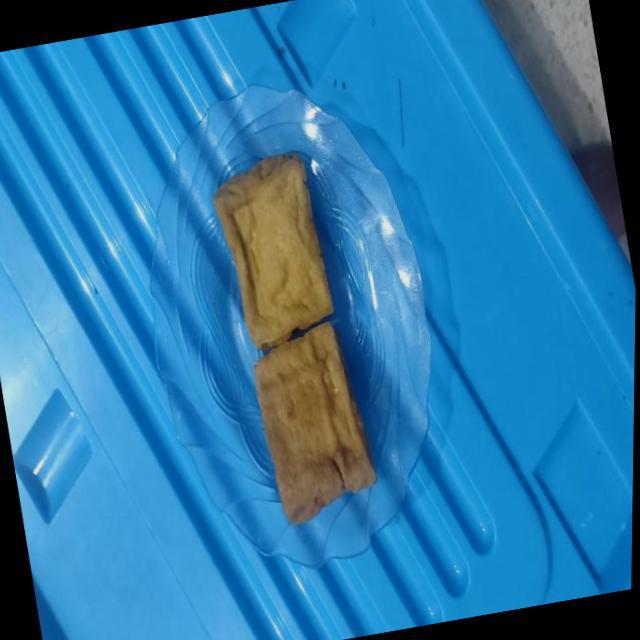tahu_goreng: (254, 322, 376, 524), (213, 152, 333, 349)
